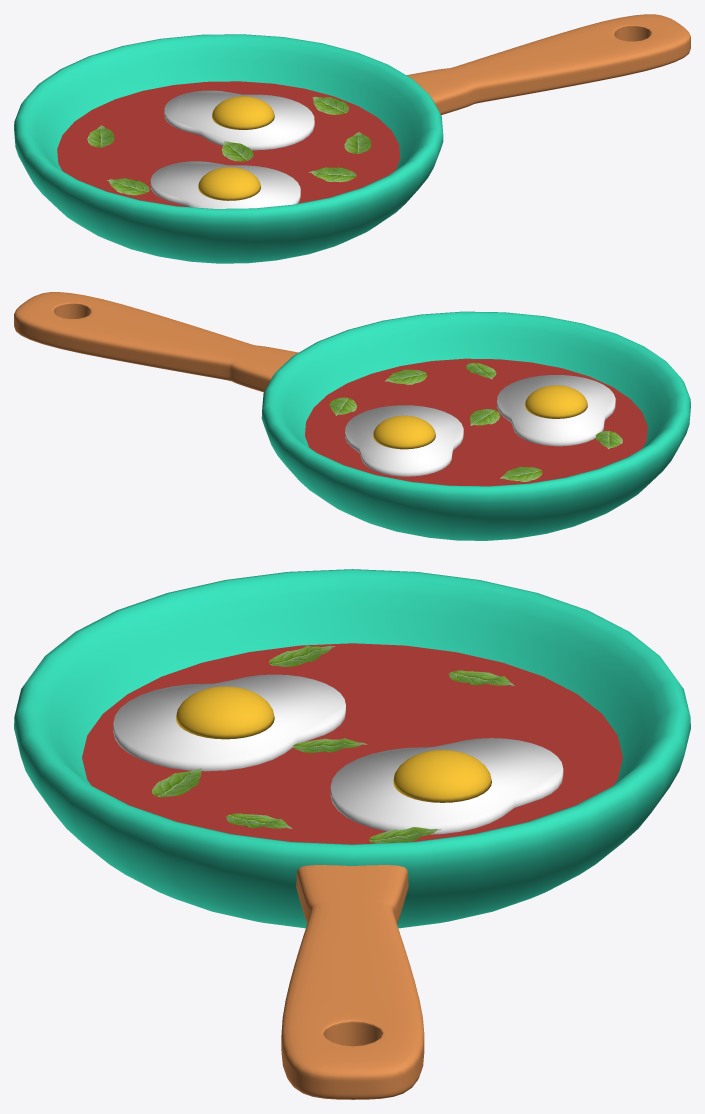
File: szakszuka.gltf
3 renders of one model, top to bottom at view 1: azimuth 30°, elevation 25°; view 2: azimuth 150°, elevation 25°; view 3: azimuth 270°, elevation 25°, orthographic. The views are drawn at different scales.
Parts seen in each view (by area): view 1: Circle.002, Circle, Plane.001, Circle.003, Circle.001, Sphere, Sphere.001, roslina.004, roslina.005, roslina.006, roslina.001, roslina.002 (+1 smaller); view 2: Circle.002, Circle, Plane.001, Circle.003, Circle.001, Sphere, Sphere.001, roslina.002, roslina.003, roslina.001; view 3: Circle.002, Circle, Plane.001, Circle.001, Circle.003, Sphere, Sphere.001, roslina.005, roslina.004.
Part boxes in pixels (left/top/right/bottom): Circle.002: left=14, top=34, right=443, bottom=263; Circle: left=57, top=81, right=400, bottom=206; Plane.001: left=406, top=14, right=690, bottom=114; Circle.003: left=164, top=90, right=314, bottom=150; Circle.001: left=150, top=161, right=300, bottom=208; Sphere: left=198, top=167, right=260, bottom=200; Sphere.001: left=212, top=96, right=274, bottom=129; roslina.004: left=107, top=178, right=149, bottom=195; roslina.005: left=308, top=167, right=356, bottom=182; roslina.006: left=312, top=96, right=348, bottom=114; roslina.001: left=222, top=141, right=253, bottom=161; roslina.002: left=344, top=132, right=371, bottom=153; Circle.002: left=261, top=311, right=690, bottom=540; Circle: left=305, top=358, right=647, bottom=486; Plane.001: left=14, top=292, right=298, bottom=392; Circle.003: left=345, top=405, right=463, bottom=476; Circle.001: left=497, top=375, right=615, bottom=446; Sphere: left=525, top=385, right=587, bottom=418; Sphere.001: left=373, top=415, right=435, bottom=449; roslina.002: left=385, top=369, right=426, bottom=384; roslina.003: left=500, top=467, right=542, bottom=481; roslina.001: left=470, top=409, right=499, bottom=425; Circle.002: left=14, top=569, right=690, bottom=928; Circle: left=82, top=643, right=622, bottom=844; Plane.001: left=281, top=865, right=424, bottom=1099; Circle.001: left=113, top=674, right=345, bottom=771; Circle.003: left=330, top=738, right=563, bottom=834; Sphere: left=176, top=686, right=274, bottom=739; Sphere.001: left=393, top=750, right=491, bottom=802; roslina.005: left=152, top=768, right=201, bottom=797; roslina.004: left=269, top=646, right=334, bottom=666.
Size of the model in its own units: 7.82 by 1.04 by 4.56.
9 materials, 9 textured.
